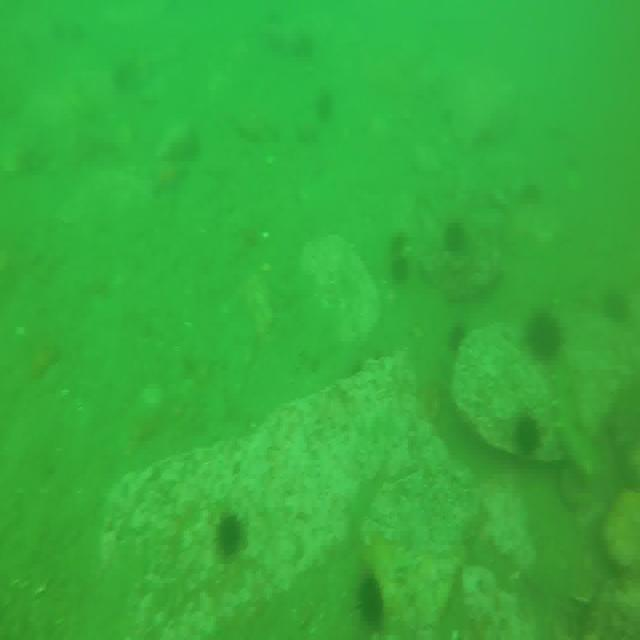echinus: (526, 308, 564, 358), (214, 508, 250, 560), (354, 574, 385, 629), (391, 232, 412, 282), (444, 222, 468, 254), (519, 412, 538, 448), (447, 325, 469, 351)
holothurian: (550, 362, 596, 476)
